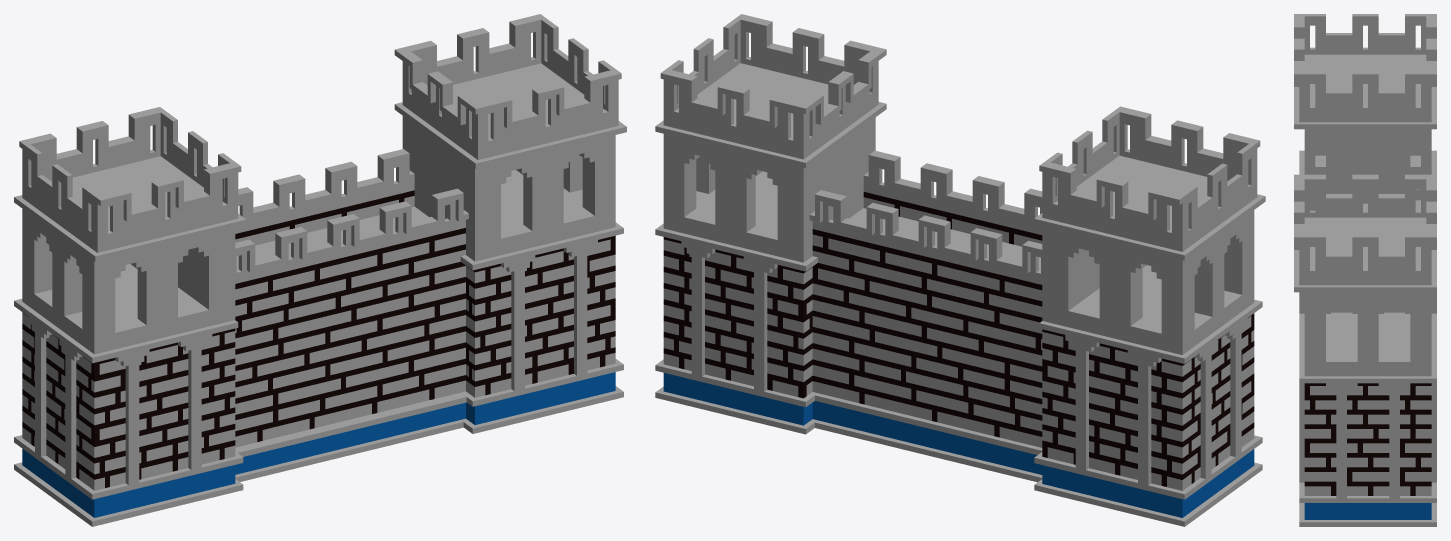
Rendered from Wall.obj.
3 views of the same model, side by side, from view 1: azimuth 30°, elevation 25°; view 2: azimuth 150°, elevation 25°; view 3: azimuth 270°, elevation 25° (orthographic). The views are drawn at different scales.
Bounding box in the file's own units: 102 × 60 × 27.
1 material, 1 textured.
